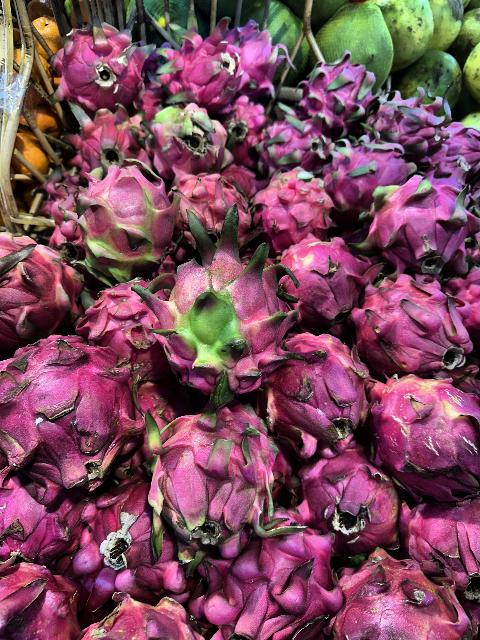buah-naga-belum-matang: (153, 220, 294, 402), (134, 396, 290, 550), (362, 376, 480, 492), (72, 157, 184, 271), (145, 96, 251, 180)
buah-naga-matang: (0, 330, 130, 480), (206, 520, 350, 640), (332, 546, 474, 640), (358, 269, 472, 385), (364, 166, 468, 282), (294, 447, 402, 558), (269, 328, 367, 448), (74, 496, 178, 604), (269, 232, 369, 322), (0, 231, 80, 335), (156, 27, 254, 109), (0, 548, 82, 640), (50, 31, 144, 107), (80, 277, 158, 357), (292, 52, 370, 130), (361, 84, 447, 154), (332, 131, 410, 207), (253, 160, 328, 234)
